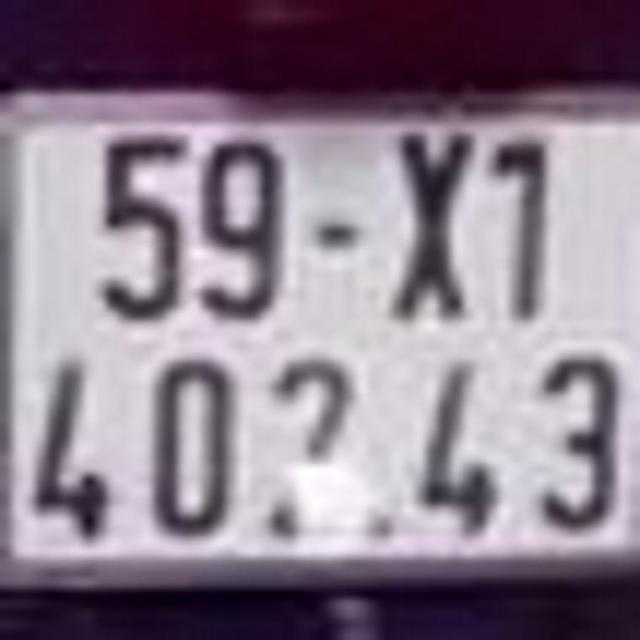0: (154, 360, 231, 530)
1: (494, 145, 550, 322)
2: (268, 360, 352, 541)
3: (540, 358, 615, 524)
4: (420, 361, 496, 530), (34, 361, 104, 536)
5: (104, 142, 187, 316)
9: (204, 142, 274, 320)
X: (392, 132, 468, 314)
